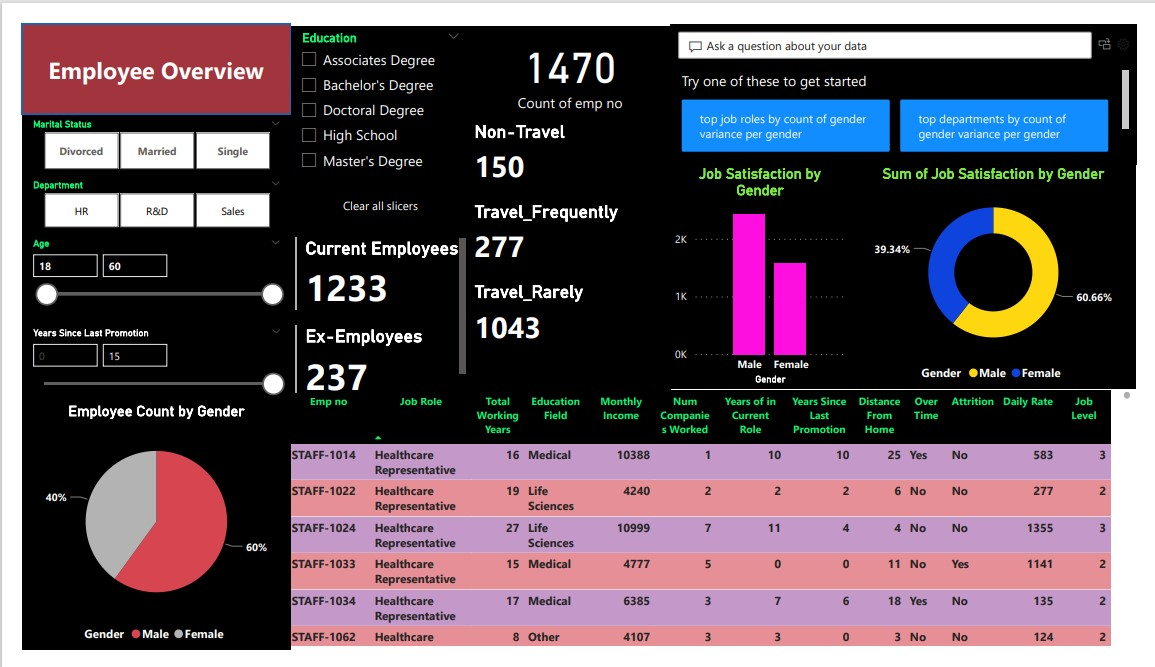

This screenshot's page, from the dashboard's own definition file:
{"tool":"powerbi","page":{"name":"Page 1","canvas":[1280,720],"ordinal":0},"visuals":[{"type":"card","fields":{"Values":["Count(HR data.emp no)"]},"box":[515.2,2.5,230,104.3],"z":0},{"type":"slicer","fields":{"Values":["HR data.Department"]},"box":[0,174.1,308.8,66.6],"z":1000},{"type":"slicer","fields":{"Values":["HR data.Age"]},"box":[0,240.7,308.8,102.9],"z":2000},{"type":"tableEx","fields":{"Values":["HR data.emp no","HR data.Job Role","Sum(HR data.Total Working Years)","HR data.Education Field","Sum(HR data.Monthly Income)","Sum(HR data.Num Companies Worked)","Sum(HR data.Years In Current Role)","Sum(HR data.Years Since Last Promotion)","Sum(HR data.Distance From Home)","HR data.Over Time","HR data.Attrition","Sum(HR data.Daily Rate)"]},"box":[299.1,417.2,980.2,302.8],"z":3000},{"type":"slicer","fields":{"Values":["HR data.Years Since Last Promotion"]},"box":[0,343.7,309.9,104.9],"z":4000},{"type":"pieChart","title":"Employee Count by Gender","fields":{"Category":["HR data.Gender"],"Y":["Divide(Sum(HR data.Employee Count), ScopedEval(Sum(HR data.Employee Count), []))"]},"box":[0,435.4,308.7,284.6],"z":5000},{"type":"slicer","fields":{"Values":["HR data.Education"]},"box":[309.1,2.5,206.1,238.8],"z":6000},{"type":"slicer","fields":{"Values":["HR data.Marital Status"]},"box":[0,104.4,308.8,69.6],"z":7000},{"type":"donutChart","fields":{"Category":["HR data.Gender"],"Y":["Sum(HR data.Job Satisfaction)"]},"box":[951.6,161.6,328,258.1],"z":8000},{"type":"actionButton","box":[356.9,192.3,110.6,31.4],"z":9000},{"type":"shape","box":[0,0,308.8,104.4],"z":10000},{"type":"multiRowCard","fields":{"Values":["HR data.CF_attrition label","Sum(HR data.Employee Count)"]},"box":[309.1,241.3,206.1,188.5],"z":11000},{"type":"multiRowCard","fields":{"Values":["HR data.Business Travel","Sum(HR data.Employee Count)"]},"box":[515.2,106.8,230,315.4],"z":12000},{"type":"qnaVisual","box":[744.8,0,535.9,162],"z":13000},{"type":"columnChart","fields":{"Category":["HR data.Gender"],"Y":["Sum(HR data.Job Satisfaction)"]},"box":[745.2,162.1,206.1,257.6],"z":14000}]}

Visuals, with their boxes on the page's 1280x720 design canvas (x1, y1, x2, y2). These are canvas units, not pixel positions in the 1155x667 screenshot, which may show the page scaled, cropped or inside an application window:
card - Count(HR data.emp no): 515,2,745,107
slicer - HR data.Department: 0,174,309,241
slicer - HR data.Age: 0,241,309,344
tableEx - HR data.emp no x HR data.Job Role: 299,417,1279,720
slicer - HR data.Years Since Last Promotion: 0,344,310,449
"Employee Count by Gender" pieChart: 0,435,309,720
slicer - HR data.Education: 309,2,515,241
slicer - HR data.Marital Status: 0,104,309,174
donutChart - HR data.Gender x Sum(HR data.Job Satisfaction): 952,162,1280,420
actionButton: 357,192,468,224
shape: 0,0,309,104
multiRowCard - HR data.CF_attrition label x Sum(HR data.Employee Count): 309,241,515,430
multiRowCard - HR data.Business Travel x Sum(HR data.Employee Count): 515,107,745,422
qnaVisual: 745,0,1281,162
columnChart - HR data.Gender x Sum(HR data.Job Satisfaction): 745,162,951,420
